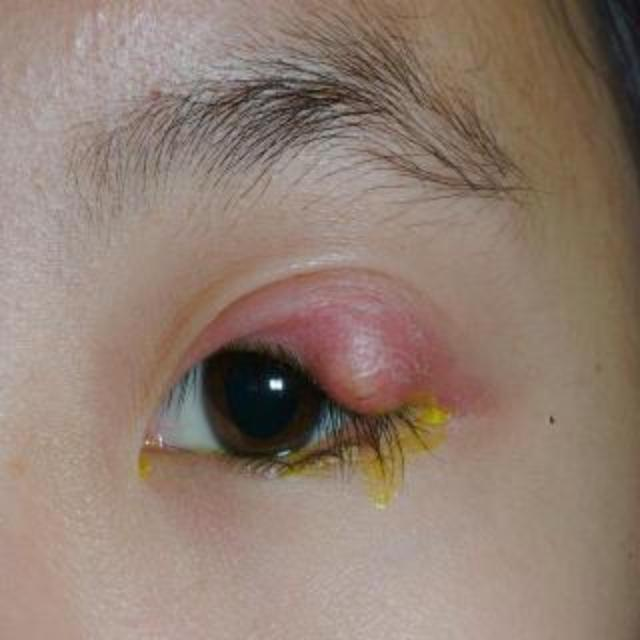Stye: (172, 254, 475, 422)
